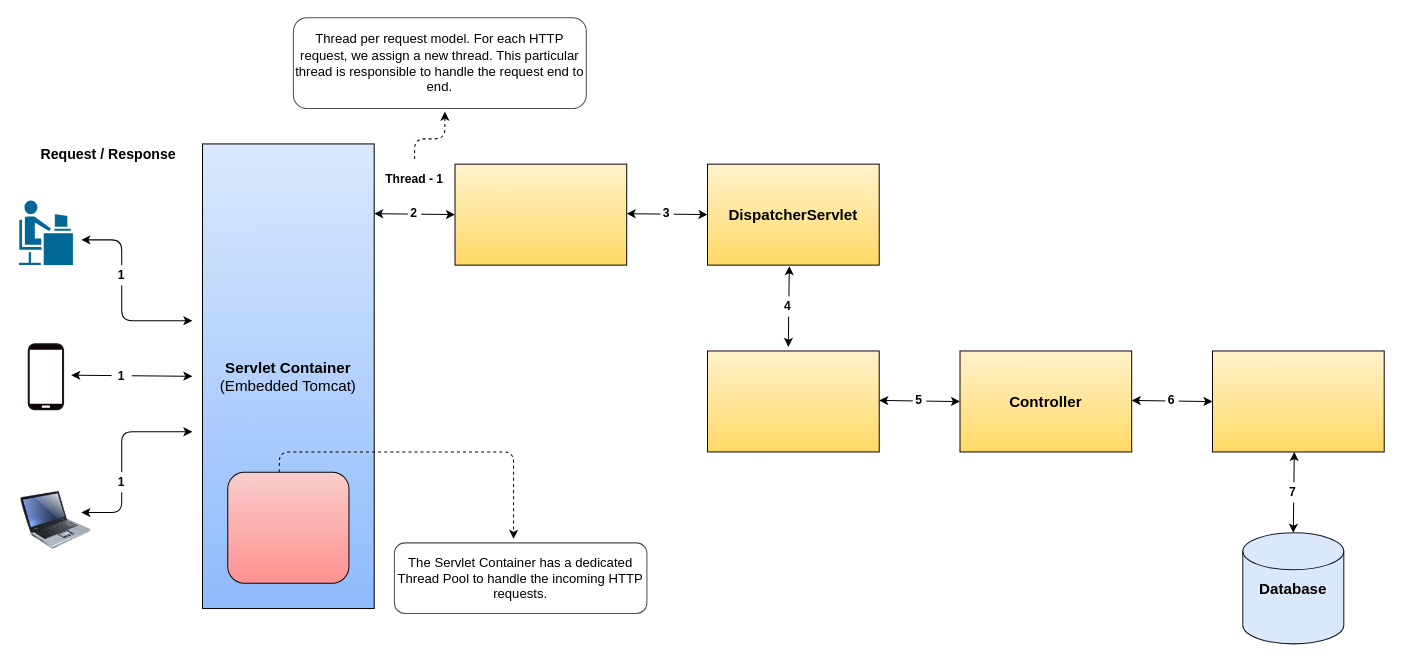
Image size: 1403x662. Some labels were removed from this diagram. The centre of each missing label's shape, as x and y in pixels:
Filter: the point at 540,214
RequestMapping HandlerMapping: the point at 792,401
Service (Optional): the point at 1297,401
Thread Pool: the point at 288,527
